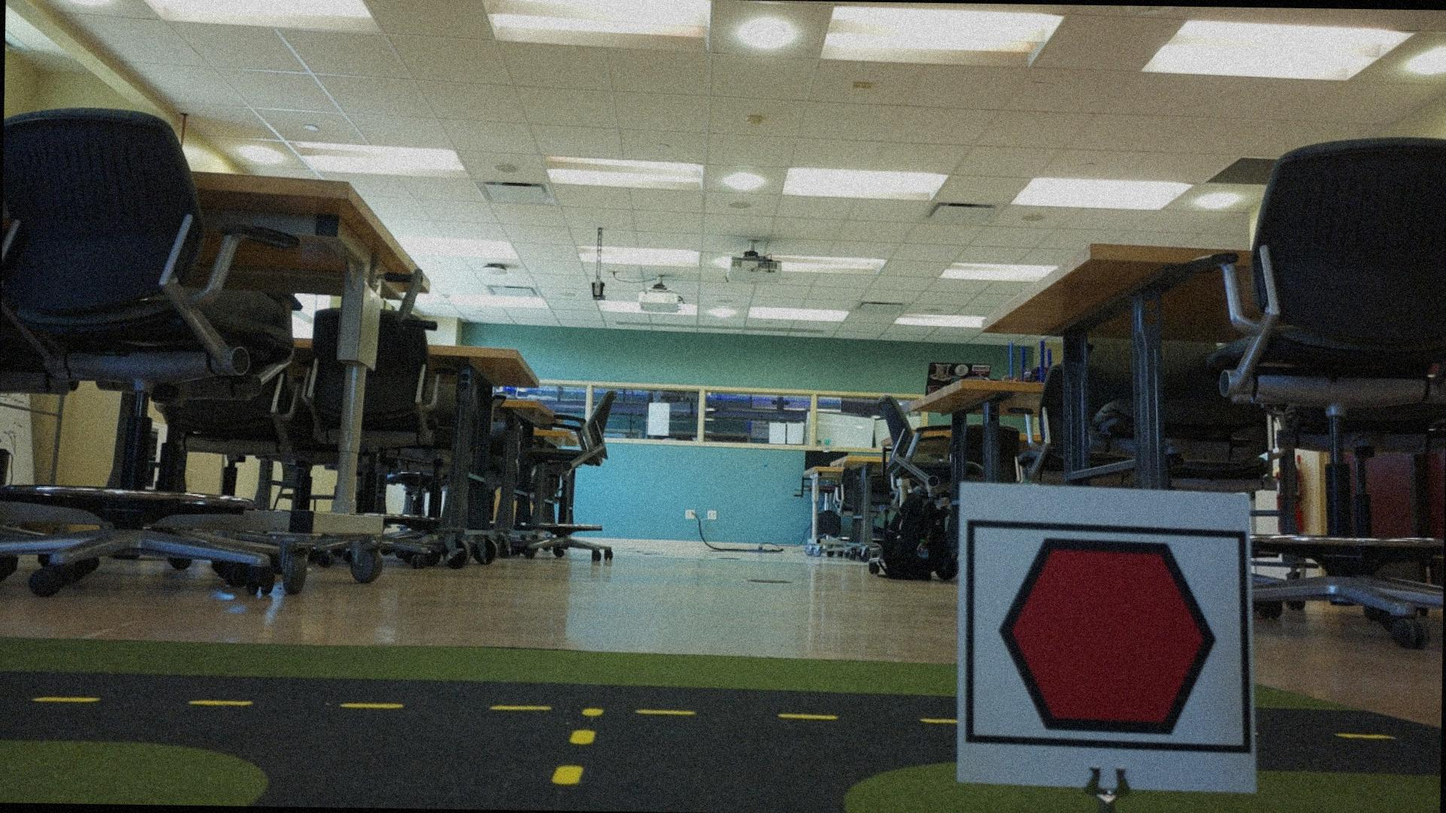stop: (984, 531, 1233, 740)
yellowline: (551, 705, 602, 787)
